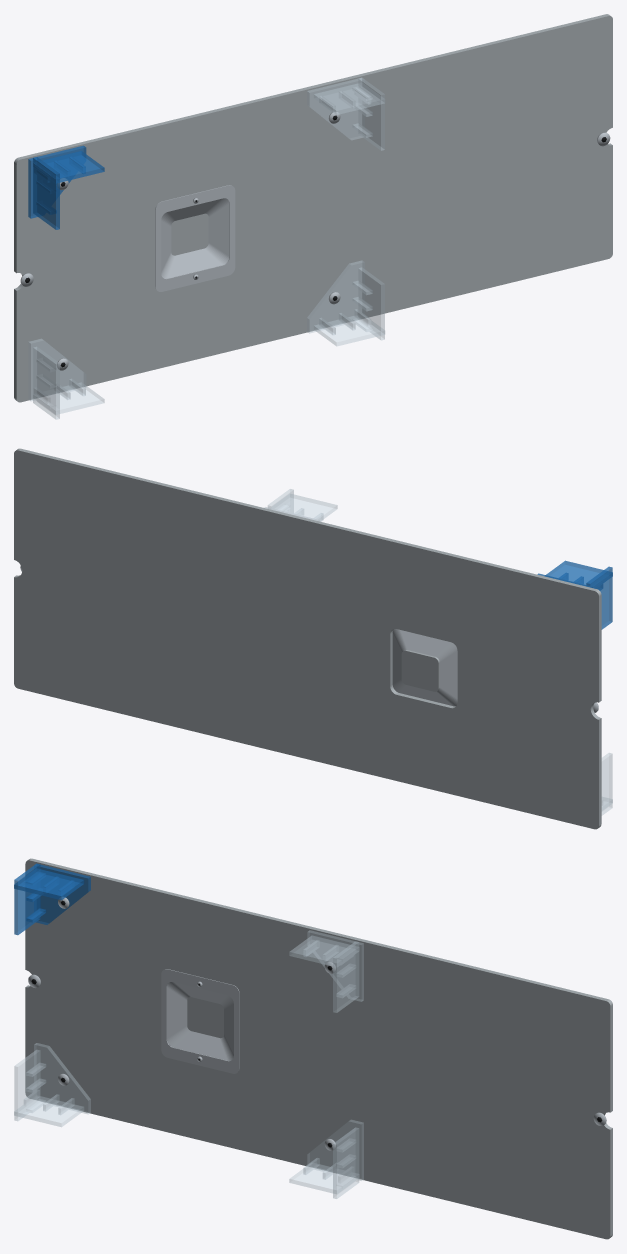
Rendered from deck_right.obj.
3 views of the same model, one above another, from view 1: azimuth 30°, elevation 25°; view 2: azimuth 150°, elevation 25°; view 3: azimuth 330°, elevation 25° (orthographic).
Visible parts, largest first — view 1: deck_right_0, deck_right_2, deck_right_1, deck_right_34, deck_right_45, deck_right_12, deck_right_24, deck_right_13, deck_right_23, deck_right_47, deck_right_35, deck_right_25 (+4 smaller); view 2: deck_right_0, deck_right_2, deck_right_3, deck_right_47, deck_right_25, deck_right_24, deck_right_13; view 3: deck_right_0, deck_right_2, deck_right_1, deck_right_12, deck_right_23, deck_right_34, deck_right_45, deck_right_35, deck_right_46, deck_right_13, deck_right_25, deck_right_24 (+4 smaller).
Part boxes in pixels (<box>): deck_right_0: <box>14,14,612,402</box>; deck_right_2: <box>161,198,229,278</box>; deck_right_1: <box>155,185,235,291</box>; deck_right_34: <box>307,260,364,333</box>; deck_right_45: <box>307,78,364,139</box>; deck_right_12: <box>28,339,85,401</box>; deck_right_24: <box>33,157,59,229</box>; deck_right_13: <box>33,347,59,419</box>; deck_right_23: <box>28,145,86,218</box>; deck_right_47: <box>314,83,384,114</box>; deck_right_35: <box>358,267,384,340</box>; deck_right_25: <box>33,151,104,183</box>; deck_right_0: <box>14,448,601,829</box>; deck_right_2: <box>392,629,457,706</box>; deck_right_3: <box>401,649,439,691</box>; deck_right_47: <box>271,494,337,521</box>; deck_right_25: <box>545,560,612,588</box>; deck_right_24: <box>586,566,612,629</box>; deck_right_13: <box>602,753,612,815</box>; deck_right_0: <box>25,858,612,1239</box>; deck_right_2: <box>167,982,233,1060</box>; deck_right_1: <box>161,969,239,1073</box>; deck_right_12: <box>34,1043,90,1114</box>; deck_right_23: <box>34,864,90,924</box>; deck_right_34: <box>307,1120,363,1180</box>; deck_right_45: <box>307,930,363,1001</box>; deck_right_35: <box>333,1127,358,1198</box>; deck_right_46: <box>333,941,358,1012</box>; deck_right_13: <box>14,1050,40,1120</box>; deck_right_25: <box>14,868,83,900</box>; deck_right_24: <box>14,863,40,935</box>.
Bounding box in the file's own units: 0.2697 × 0.106 × 0.025.
